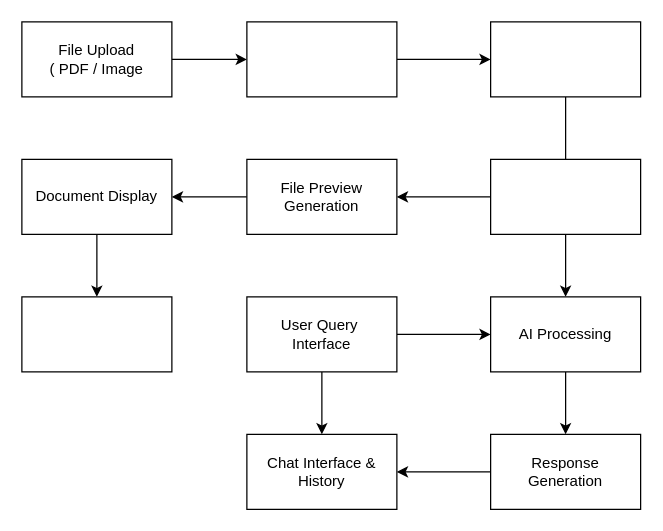
Some shapes in this 663 by 531 pixel diagram are drawn without their labels. Here are the shapes that lost their labels. From the top down, the box of each, then its label:
(246, 21, 397, 97): File Validation & Storage
(489, 21, 641, 97): Text Extraction Processing
(489, 158, 641, 234): PyPDF2 + OCR Fallback
(21, 296, 172, 372): Text-to-Speech Synthesis
